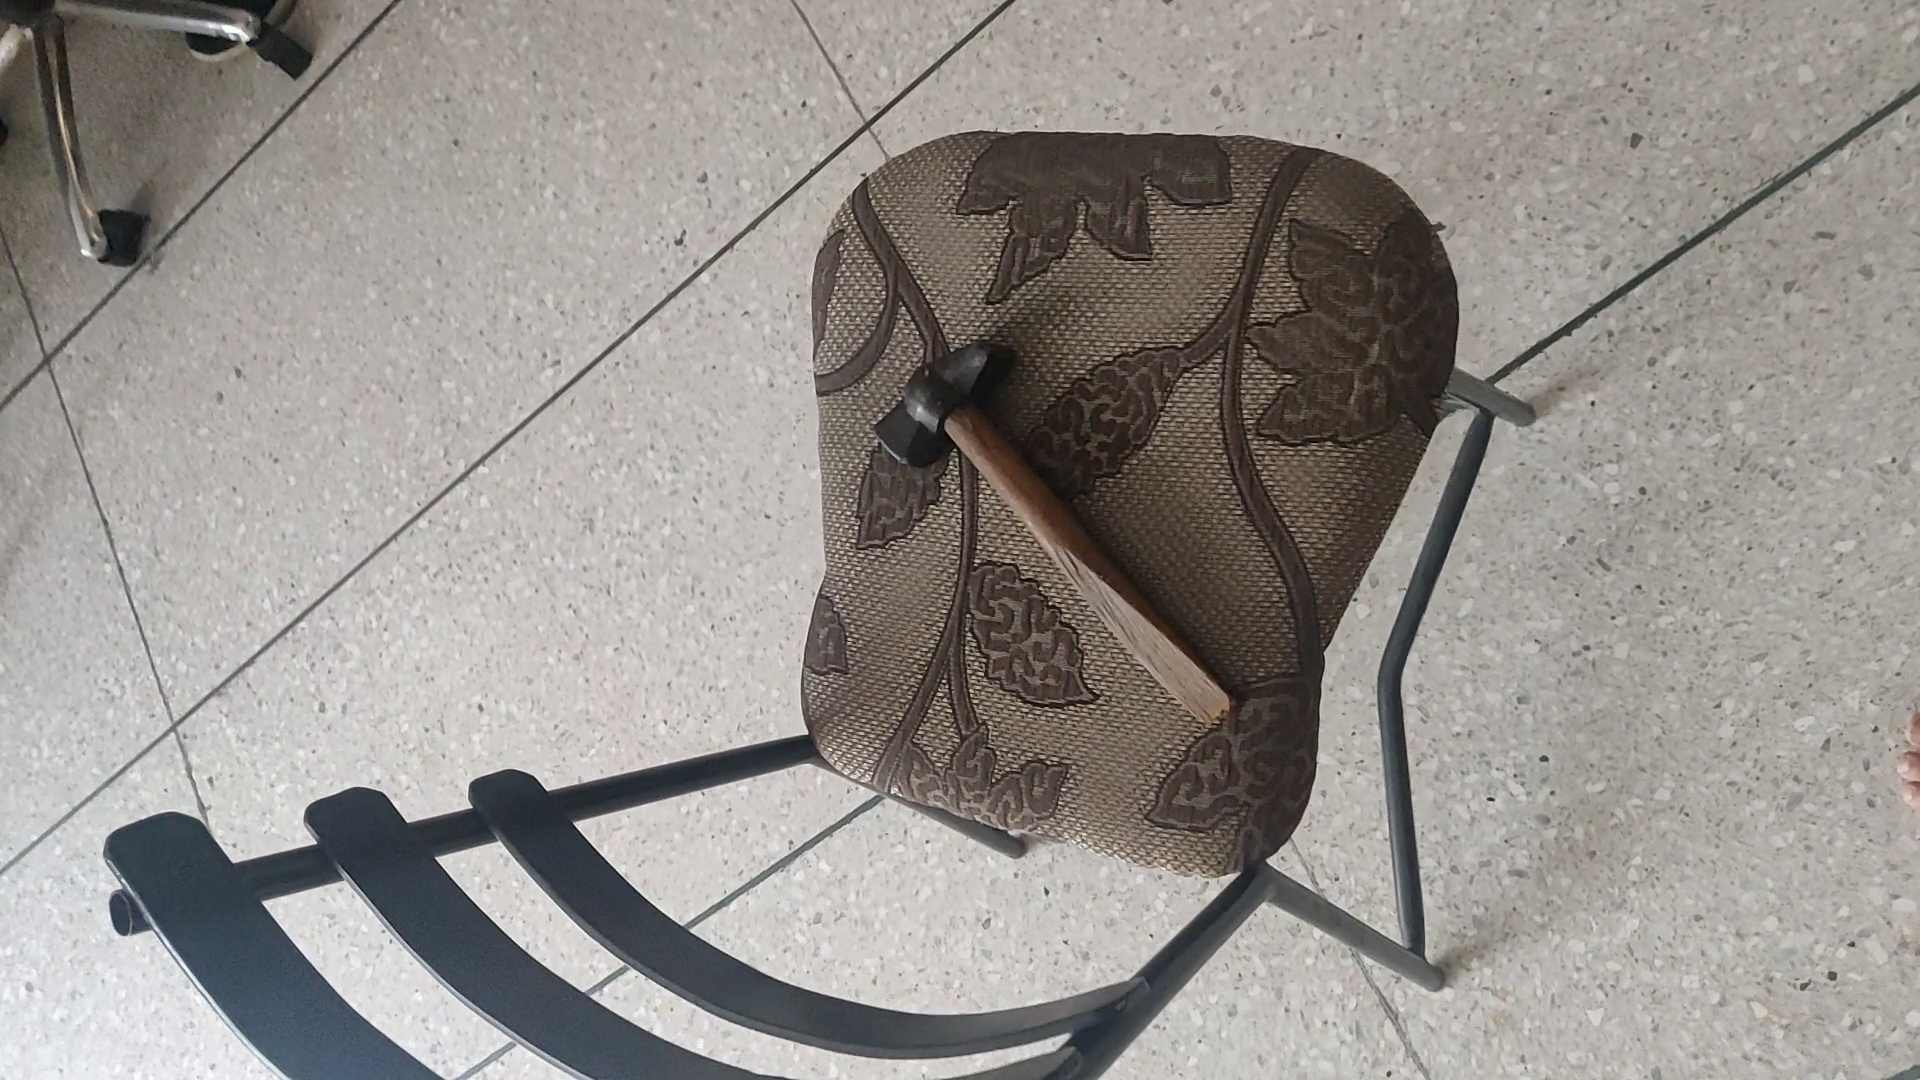hammer: (872, 339, 1240, 723)
